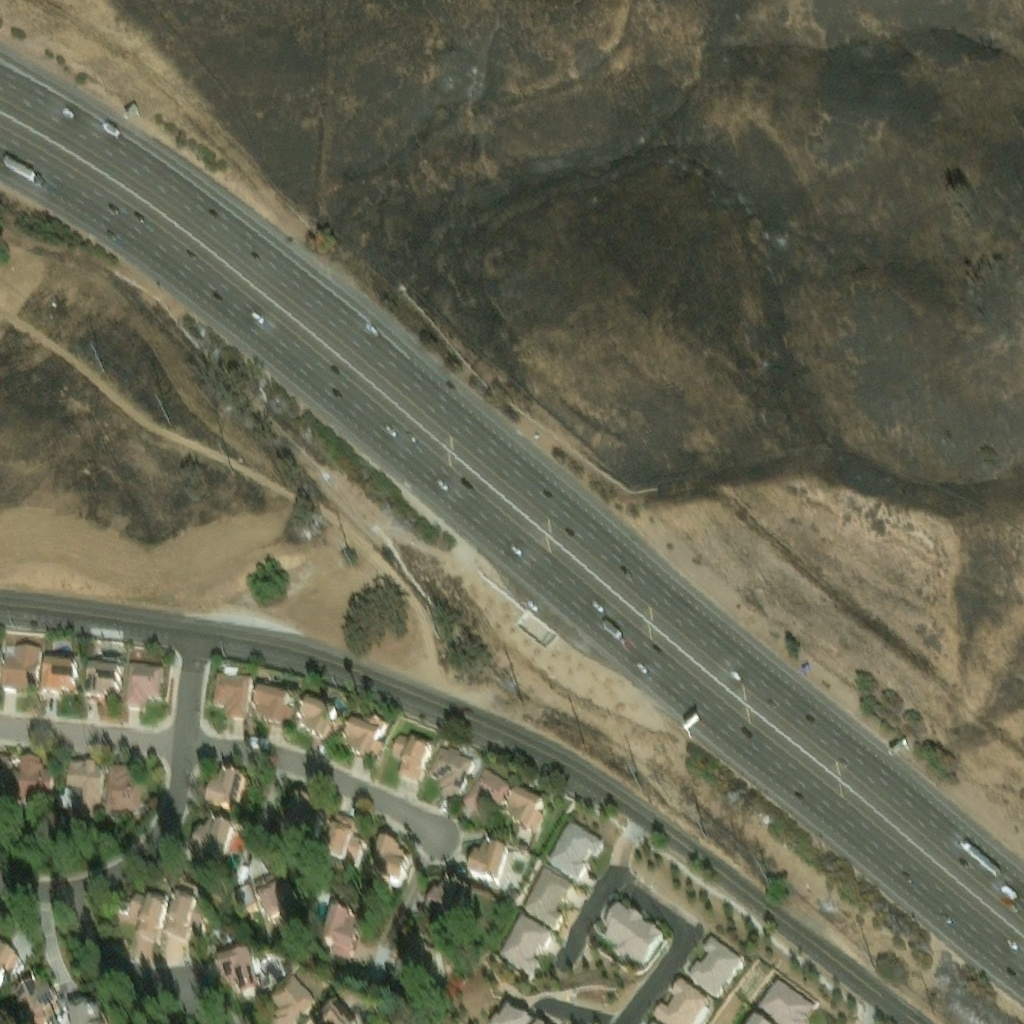0 no-damage: (594, 901, 665, 966), (315, 908, 383, 970), (688, 937, 750, 1004), (546, 821, 606, 881), (161, 895, 213, 962), (496, 910, 554, 969), (521, 865, 578, 923), (756, 978, 817, 1023), (427, 742, 476, 798), (316, 812, 366, 864), (391, 728, 437, 784), (651, 983, 714, 1023), (268, 974, 319, 1023), (461, 765, 511, 814), (338, 720, 389, 767), (62, 754, 103, 812), (14, 975, 63, 1023), (296, 698, 343, 748), (498, 786, 545, 835), (365, 834, 410, 884), (121, 662, 165, 713), (214, 948, 261, 995), (100, 762, 144, 811), (253, 874, 296, 924), (13, 747, 56, 795), (134, 899, 169, 957), (212, 676, 254, 723), (253, 691, 299, 733), (463, 839, 510, 880), (425, 877, 474, 915), (190, 820, 235, 860), (39, 659, 79, 696), (203, 770, 239, 811), (81, 664, 120, 701), (110, 894, 147, 930), (282, 792, 314, 829), (0, 941, 23, 980), (63, 1003, 105, 1023), (491, 1004, 532, 1023), (313, 1005, 352, 1023), (234, 884, 257, 910), (416, 947, 438, 968), (0, 749, 11, 771)
